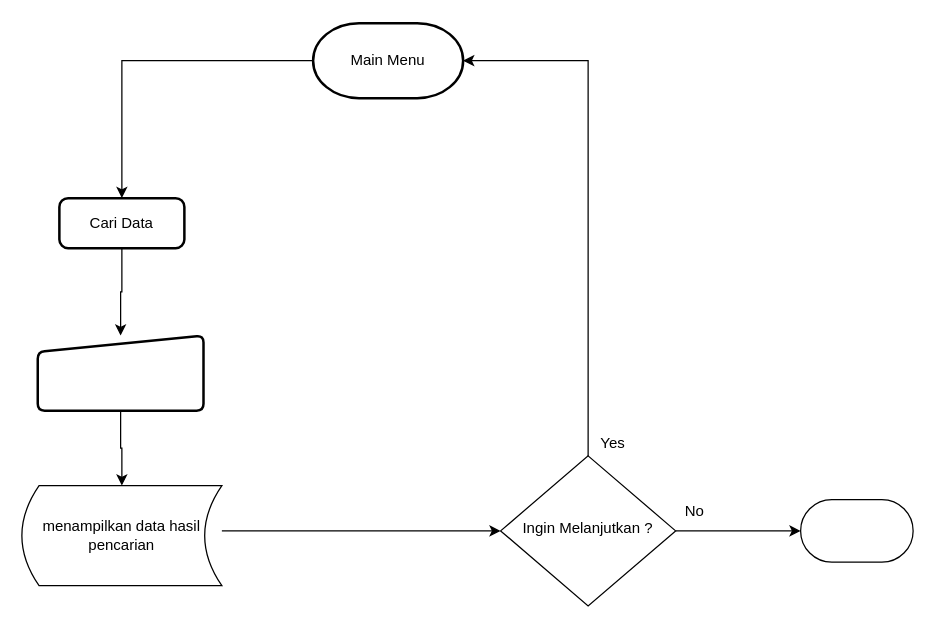
The diagram is 935 pixels wide and 628 high, and some of its shapes have lost their labels. The shapes that lost their labels are listed below. From the top down, each one's centre as x and y in pixels, then its label:
At point 120,372: "Masukan Keyword".
At point 856,530: "Keluar".
